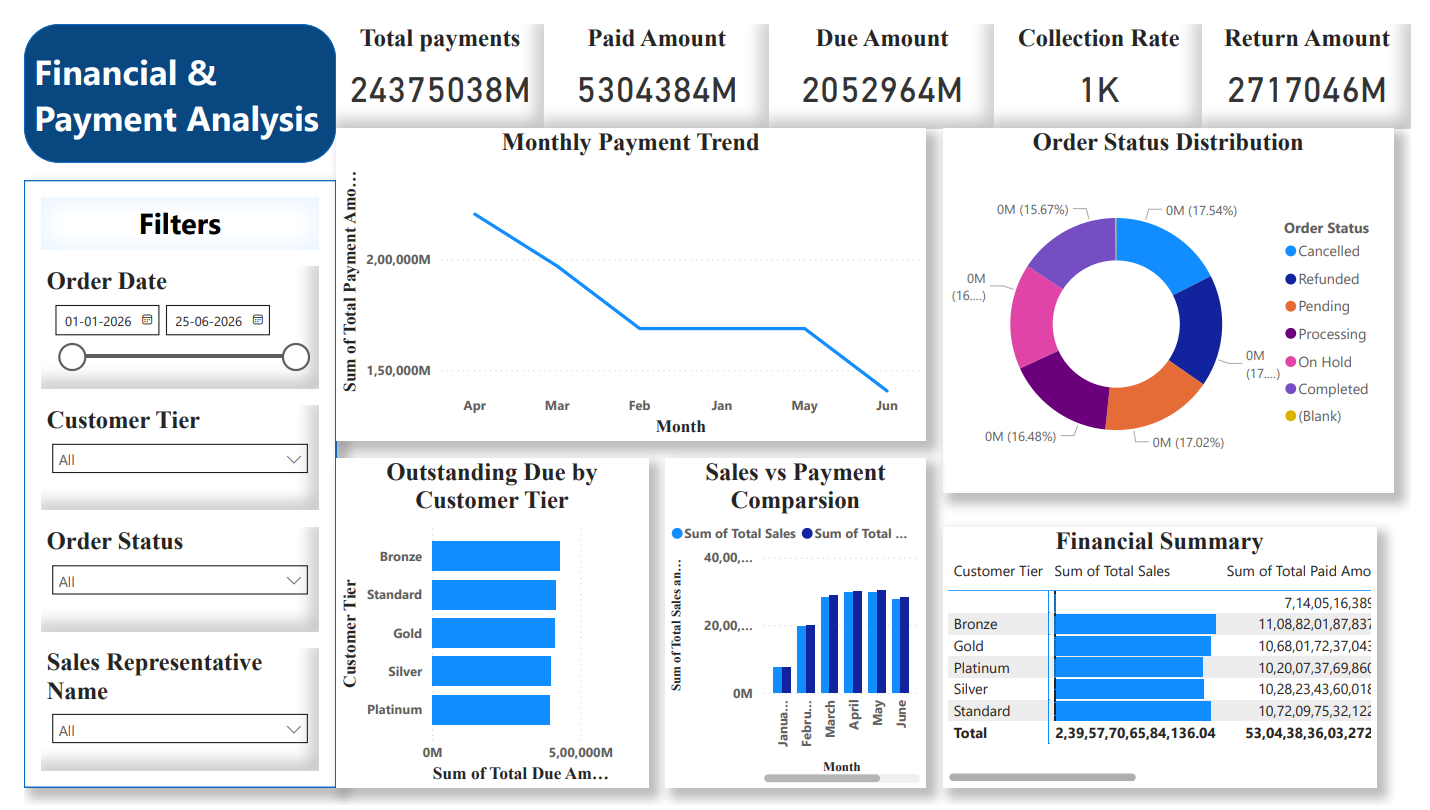

What the dashboard file says about the page in this screenshot:
{"tool":"powerbi","page":{"name":"Financial & Payment Analysis","canvas":[1280,720],"ordinal":3},"visuals":[{"type":"shape","box":[0,0,288,128],"z":0},{"type":"shape","box":[0,144,288,560],"z":1000},{"type":"textbox","box":[16,160,256,48],"z":2000},{"type":"slicer","title":"Order Date","fields":{"Values":["Sales By Product.Order Date"]},"box":[16,224,256,112],"z":3000},{"type":"slicer","title":"Customer Tier","fields":{"Values":["Sales By Product.Customer Tier"]},"box":[16,352,256,96],"z":4000},{"type":"slicer","title":"Order Status","fields":{"Values":["Sales By Product.Order Status"]},"box":[16,464,256,96],"z":5000},{"type":"slicer","title":"Sales Representative Name","fields":{"Values":["Sales By Product.Sales Representative Name"]},"box":[16,576,256,112],"z":6000},{"type":"advanceCardE03760C5AB684758B56AA29F9E6C257B","title":"Total payments","fields":{"mainMeasure":["Sum(Sales By Product.Total Payment Amount)"]},"box":[288,0,192,96],"z":7000},{"type":"advanceCardE03760C5AB684758B56AA29F9E6C257B","title":"Paid Amount","fields":{"mainMeasure":["Sum(Sales By Product.Total Paid Amount)"]},"box":[480,0,208,96],"z":8000},{"type":"advanceCardE03760C5AB684758B56AA29F9E6C257B","title":"Due Amount","fields":{"mainMeasure":["Sum(Sales By Product.Total Due Amount)"]},"box":[688,0,208,96],"z":9000},{"type":"advanceCardE03760C5AB684758B56AA29F9E6C257B","title":"Collection Rate","fields":{"mainMeasure":["Sum(Sales By Product.Collection Rate %)"]},"box":[896,0,192,96],"z":10000},{"type":"advanceCardE03760C5AB684758B56AA29F9E6C257B","title":"Return Amount","fields":{"mainMeasure":["Sum(Sales By Product.Total Return Amount)"]},"box":[1088,0,192,96],"z":10001},{"type":"lineChart","title":"Monthly Payment Trend","fields":{"Category":["Calendar.Month"],"Y":["Sum(Sales By Product.Total Payment Amount)"]},"box":[288,96,544,288],"z":10003},{"type":"donutChart","title":"Order Status Distribution","fields":{"Category":["Sales By Product.Order Status"],"Y":["Count(Sales By Product.Order Id#)"]},"box":[848,96,416,336],"z":10004},{"type":"clusteredBarChart","title":"Outstanding Due by Customer Tier","fields":{"Category":["Sales By Product.Customer Tier"],"Y":["Sum(Sales By Product.Total Due Amount)"]},"box":[288,400,288,304],"z":10005},{"type":"clusteredColumnChart","title":"Sales vs Payment Comparsion","fields":{"Category":["Sales By Product.Payment Date.Variation.Date Hierarchy.Month"],"Y":["Sum(Sales By Product.Total Sales)","Sum(Sales By Product.Total Payment Amount)"]},"box":[592,400,240,304],"z":10006},{"type":"pivotTable","title":"Financial Summary","fields":{"Rows":["Sales By Product.Customer Tier"],"Values":["Sum(Sales By Product.Total Sales)","Sum(Sales By Product.Total Paid Amount)","Sum(Sales By Product.Total Due Amount)","Sum(Sales By Product.Total Gross Profit)"]},"box":[848,464,400,240],"z":10007}]}

Visuals, with their boxes in screenshot pixels (x1, y1, x2, y2), scaled from the page's 1280x720 canvas onto the 1430x810 screenshot:
shape: [0, 0, 322, 144]
shape: [0, 162, 322, 792]
textbox: [18, 180, 304, 234]
"Order Date" slicer: [18, 252, 304, 378]
"Customer Tier" slicer: [18, 396, 304, 504]
"Order Status" slicer: [18, 522, 304, 630]
"Sales Representative Name" slicer: [18, 648, 304, 774]
"Total payments" advanceCardE03760C5AB684758B56AA29F9E6C257B: [322, 0, 536, 108]
"Paid Amount" advanceCardE03760C5AB684758B56AA29F9E6C257B: [536, 0, 769, 108]
"Due Amount" advanceCardE03760C5AB684758B56AA29F9E6C257B: [769, 0, 1001, 108]
"Collection Rate" advanceCardE03760C5AB684758B56AA29F9E6C257B: [1001, 0, 1216, 108]
"Return Amount" advanceCardE03760C5AB684758B56AA29F9E6C257B: [1216, 0, 1429, 108]
"Monthly Payment Trend" lineChart: [322, 108, 930, 432]
"Order Status Distribution" donutChart: [947, 108, 1412, 486]
"Outstanding Due by Customer Tier" clusteredBarChart: [322, 450, 644, 792]
"Sales vs Payment Comparsion" clusteredColumnChart: [661, 450, 930, 792]
"Financial Summary" pivotTable: [947, 522, 1394, 792]
